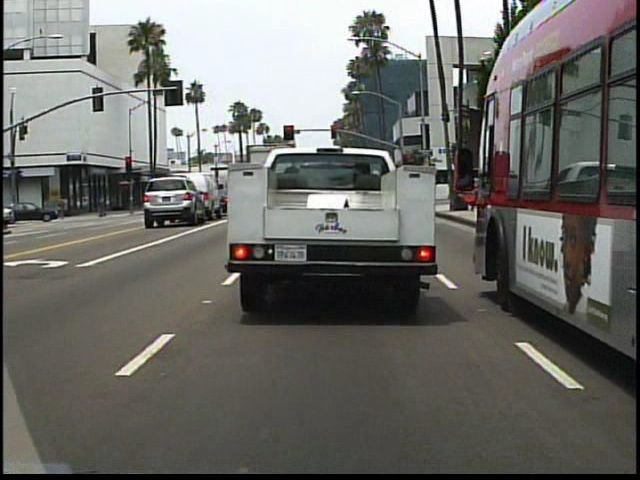person: (58, 192, 70, 220)
